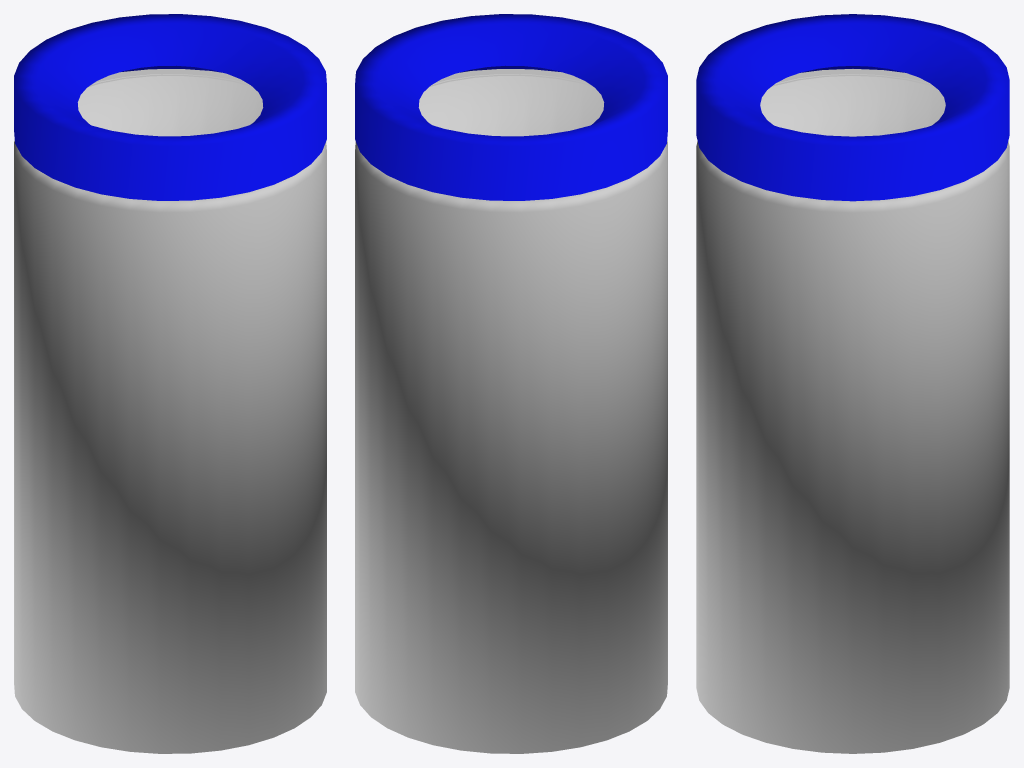
The model's file is lixeira papel.fbx.
The picture shows the model from 3 angles, left to right: view 1: azimuth 30°, elevation 25°; view 2: azimuth 150°, elevation 25°; view 3: azimuth 270°, elevation 25°; orthographic projection.
Parts seen in each view (by area): view 1: Cylinder; view 2: Cylinder; view 3: Cylinder.
Part boxes in pixels (x1,y1,x2,y2): Cylinder: (14, 14, 326, 753); Cylinder: (355, 14, 667, 753); Cylinder: (696, 14, 1009, 753).
Size of the model in its own units: 200 by 428 by 200.
